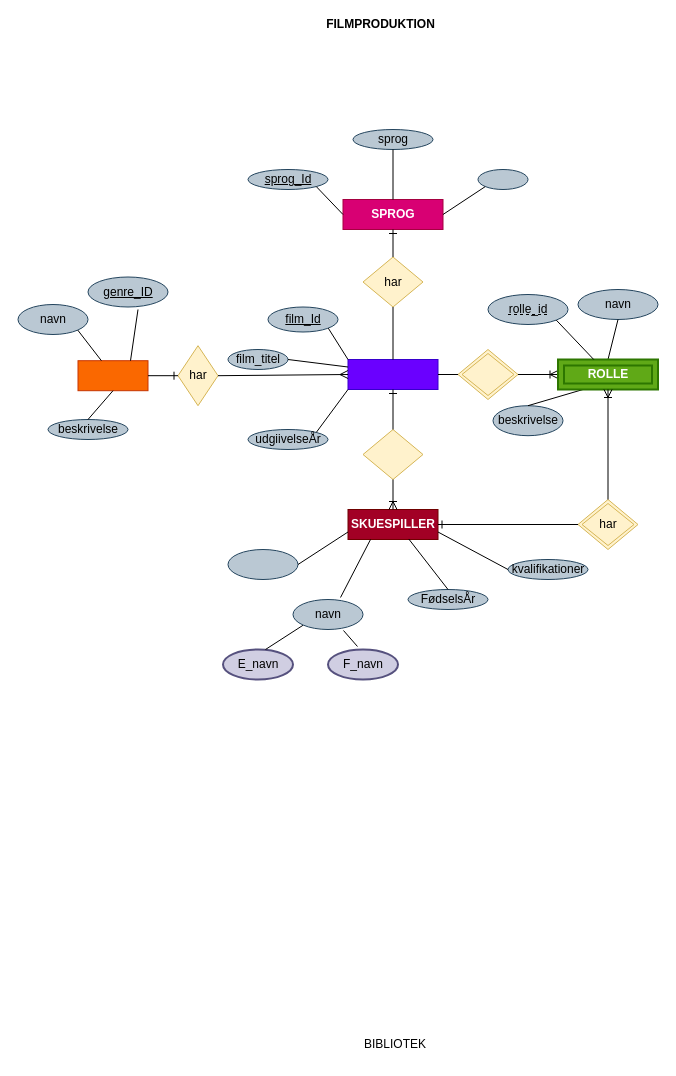
The diagram is 676 pixels wide and 1076 high, and some of its shapes have lost their labels. The shapes that lost their labels are listed below. From the top down, each one's centre as x and y in pixels, then its label:
At (502,179): "Land".
At (112,375): "GENRE".
At (392,374): "FILM".
At (487,374): "tilhører".
At (392,454): "spiller".
At (262,564): "skusp_Id".
